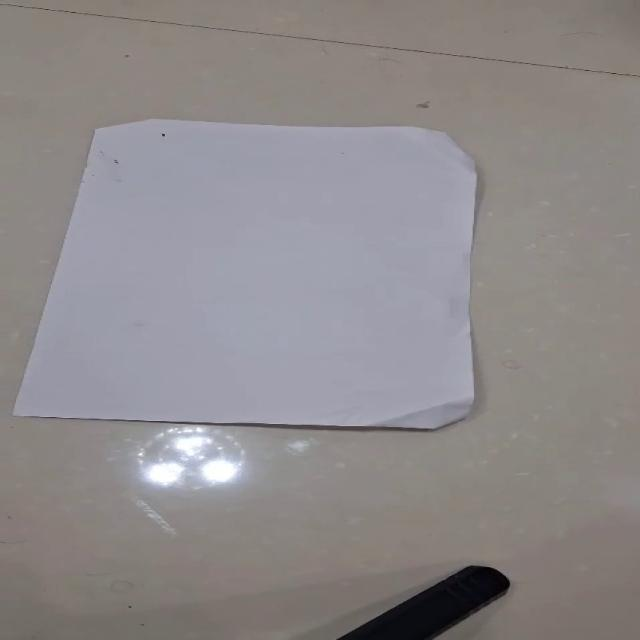paper: (11, 117, 478, 430)
